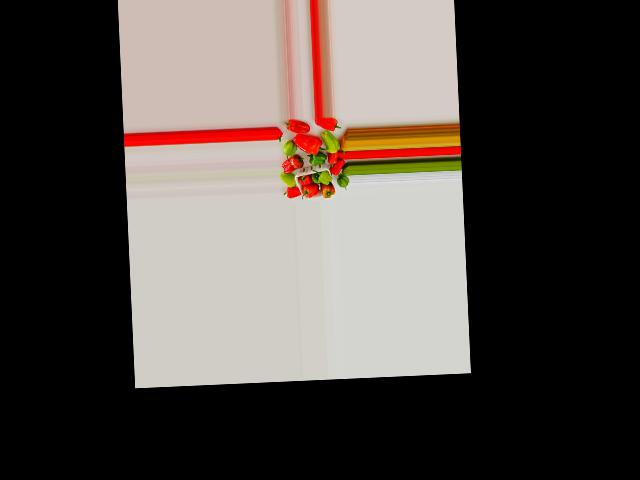bell_pepper: (318, 116, 342, 133)
